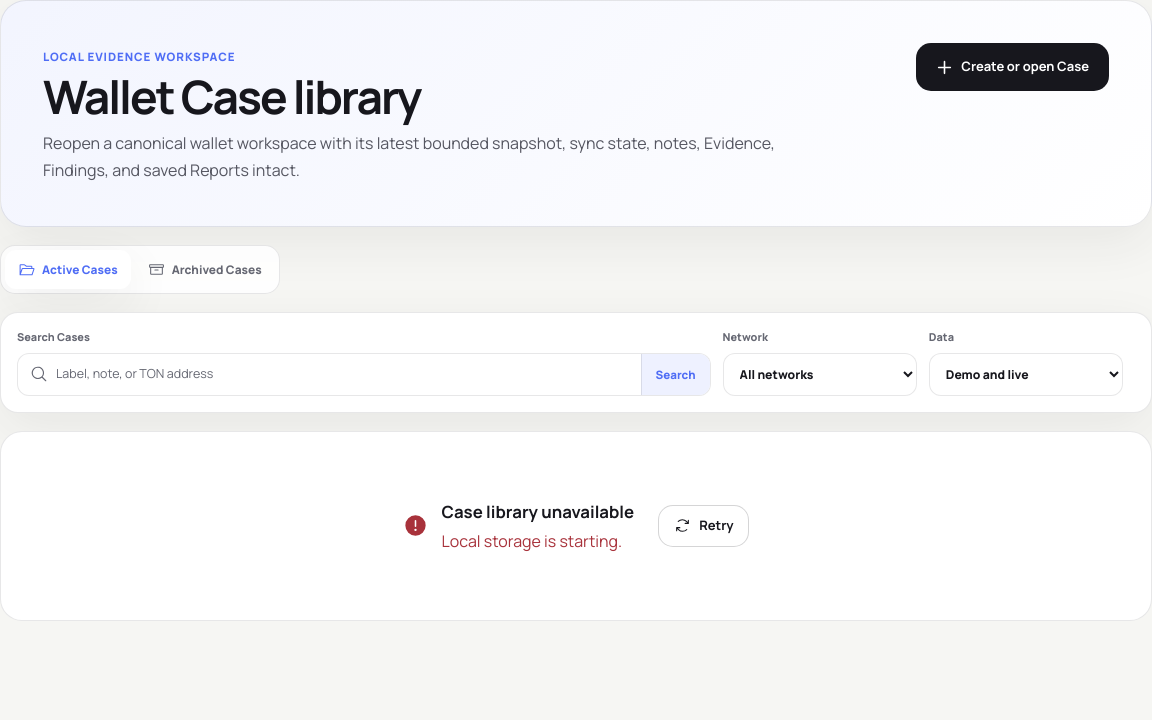
Test case: GramCaseLibrary › retries an initial catalog failure without reloading the route
Expected: the message shows "Local storage is starting.", [442, 530, 622, 552]
Click the button "Retry". click: {"x": 704, "y": 526}
box: [658, 505, 750, 547]
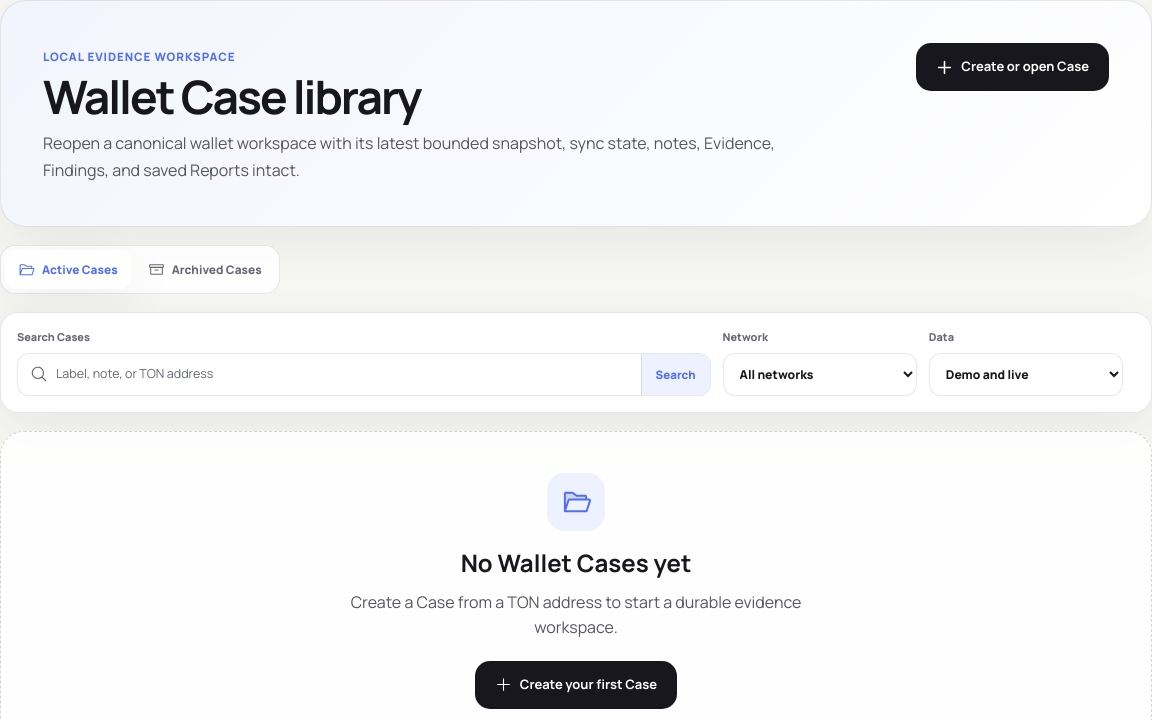
Expected: the heading "No Wallet Cases yet" is shown, [461, 545, 691, 581]
